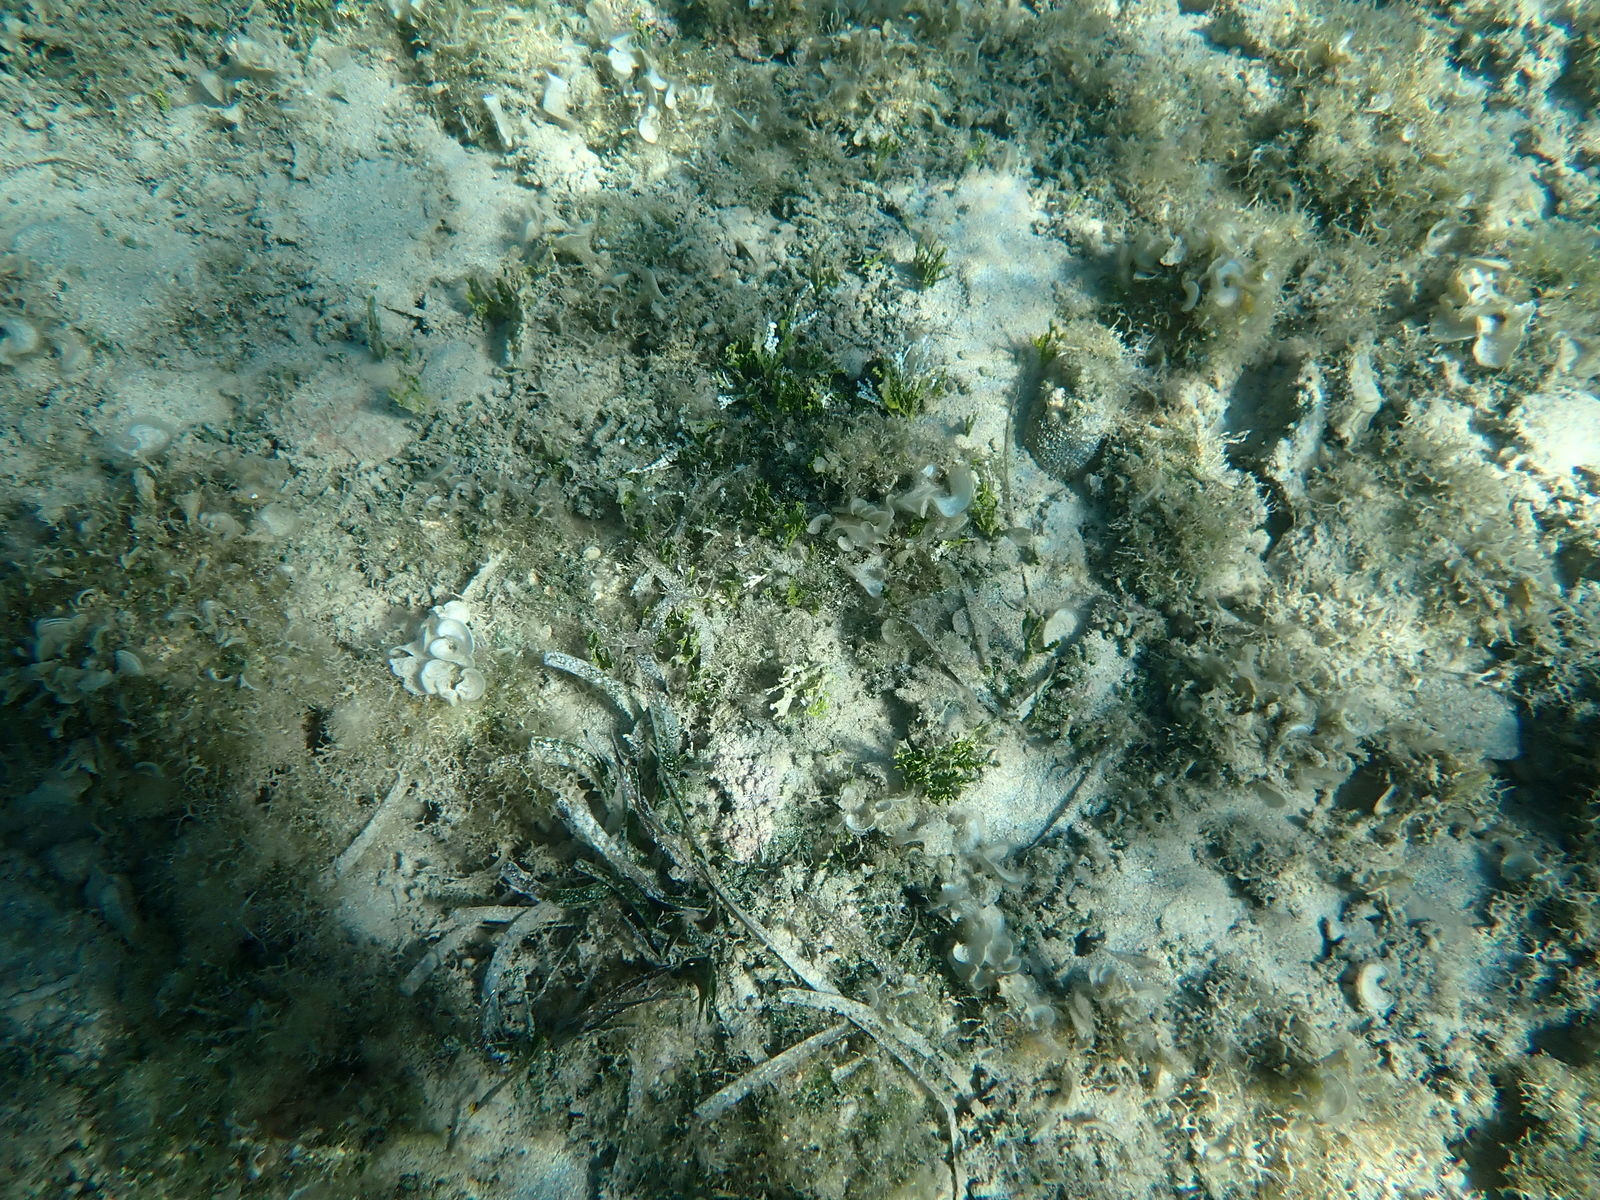halimeda: (763, 282, 820, 413), (892, 734, 990, 803), (464, 261, 553, 329), (853, 344, 929, 413), (721, 334, 779, 410), (784, 372, 837, 418), (758, 492, 808, 541), (916, 234, 952, 289), (1029, 319, 1068, 361), (975, 475, 1000, 537), (392, 372, 430, 412), (871, 134, 900, 176), (625, 492, 648, 543), (365, 297, 384, 354), (801, 691, 831, 724), (585, 630, 609, 668), (674, 634, 698, 669), (932, 537, 970, 558), (740, 562, 775, 585), (964, 135, 989, 166), (151, 76, 171, 108), (658, 538, 680, 565), (932, 368, 949, 398), (790, 576, 805, 608), (957, 412, 976, 437), (859, 251, 883, 270), (668, 609, 693, 626), (631, 14, 649, 34), (680, 565, 697, 585), (808, 539, 821, 562), (808, 597, 824, 616), (726, 584, 745, 599), (761, 585, 776, 601), (1072, 193, 1082, 213)
